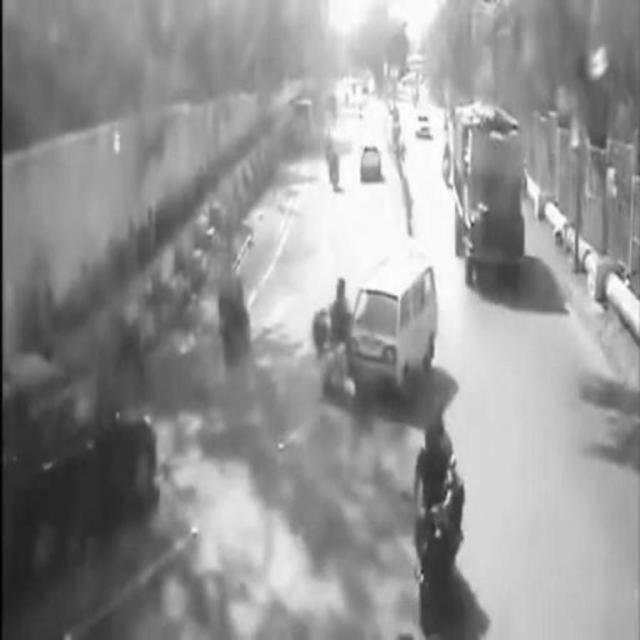accident: (307, 258, 444, 400)
vehicle: (409, 423, 477, 628), (449, 110, 527, 284)
